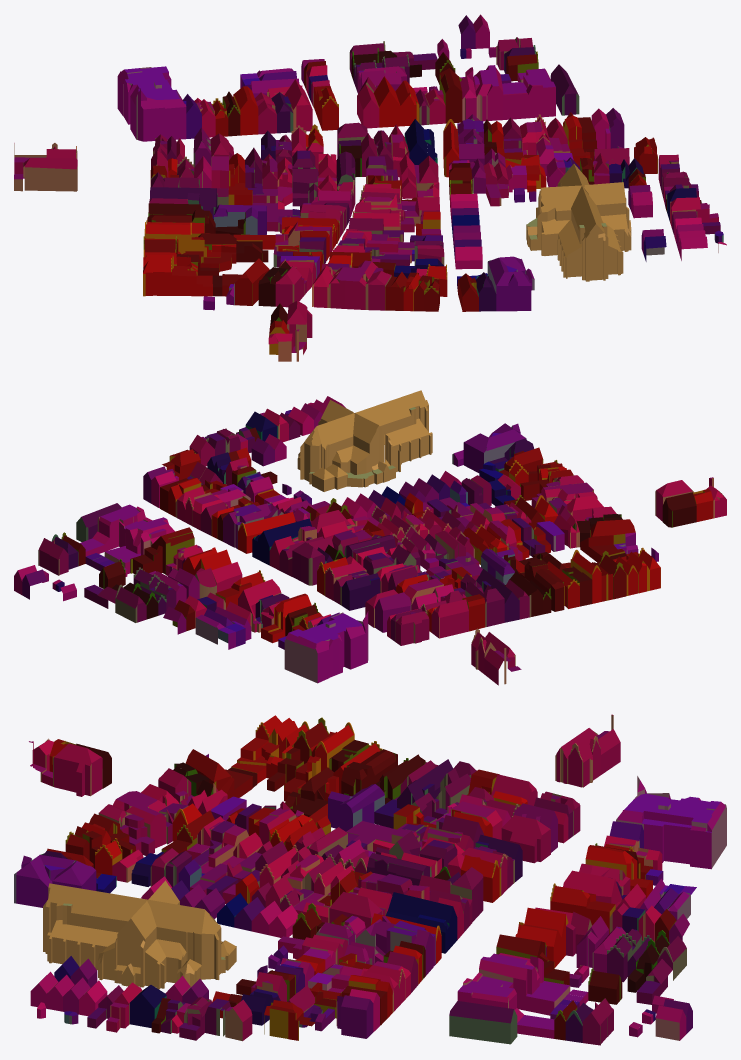
The model's file is buildings_10_10.glb.
The picture shows the model from 3 angles, top to bottom: view 1: azimuth 30°, elevation 25°; view 2: azimuth 150°, elevation 25°; view 3: azimuth 270°, elevation 25°; orthographic projection. The views are drawn at different scales.
Visible parts, largest first — view 1: buildings_10_10; view 2: buildings_10_10; view 3: buildings_10_10.
Boxes of the visible parts, left/top/right/bottom form: buildings_10_10: left=14, top=14, right=726, bottom=361; buildings_10_10: left=14, top=390, right=726, bottom=685; buildings_10_10: left=14, top=714, right=726, bottom=1045.
Size of the model in its own units: 217 by 22.22 by 221.
